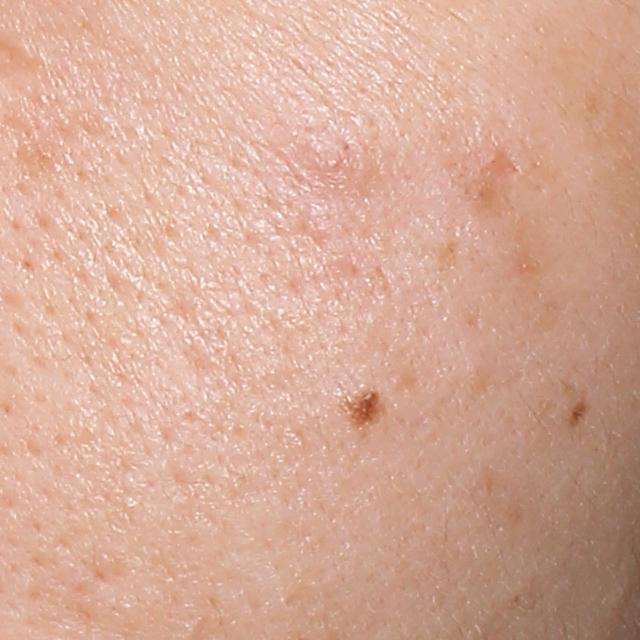nevus: (337, 385, 389, 435), (564, 393, 589, 429)
